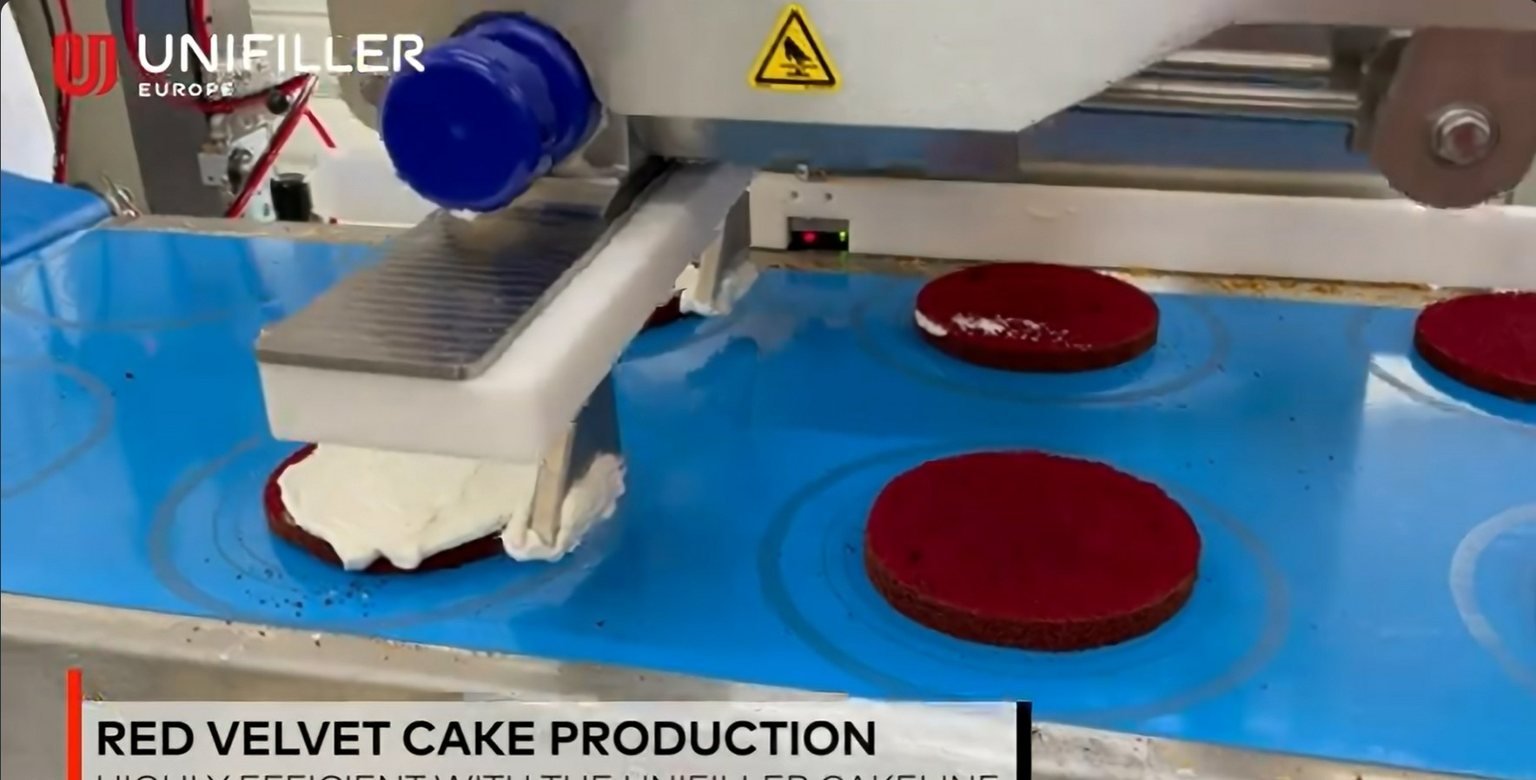Red Velvet: (876, 442, 1199, 638), (906, 256, 1157, 372), (1404, 288, 1536, 407)
Whipped Cream: (258, 444, 569, 567)
